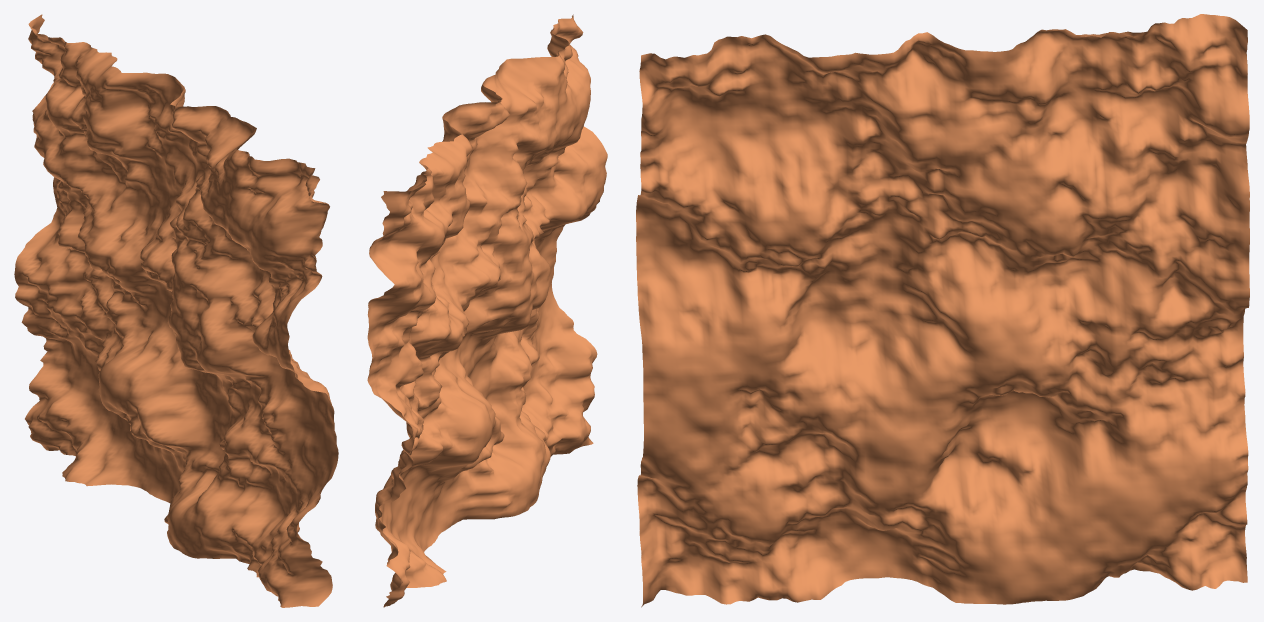
Rendered from randomterrain.fbx.
3 views of the same model, side by side, from view 1: azimuth 30°, elevation 25°; view 2: azimuth 150°, elevation 25°; view 3: azimuth 270°, elevation 25° (orthographic). The views are drawn at different scales.
Visible parts, largest first — view 1: Plane; view 2: Plane; view 3: Plane.
Boxes of the visible parts, x1=… form: Plane: x1=14, y1=14, x2=338, y2=607; Plane: x1=367, y1=14, x2=607, y2=607; Plane: x1=636, y1=14, x2=1249, y2=607.
Size of the model in its own units: 1825 by 8228 by 8285.
